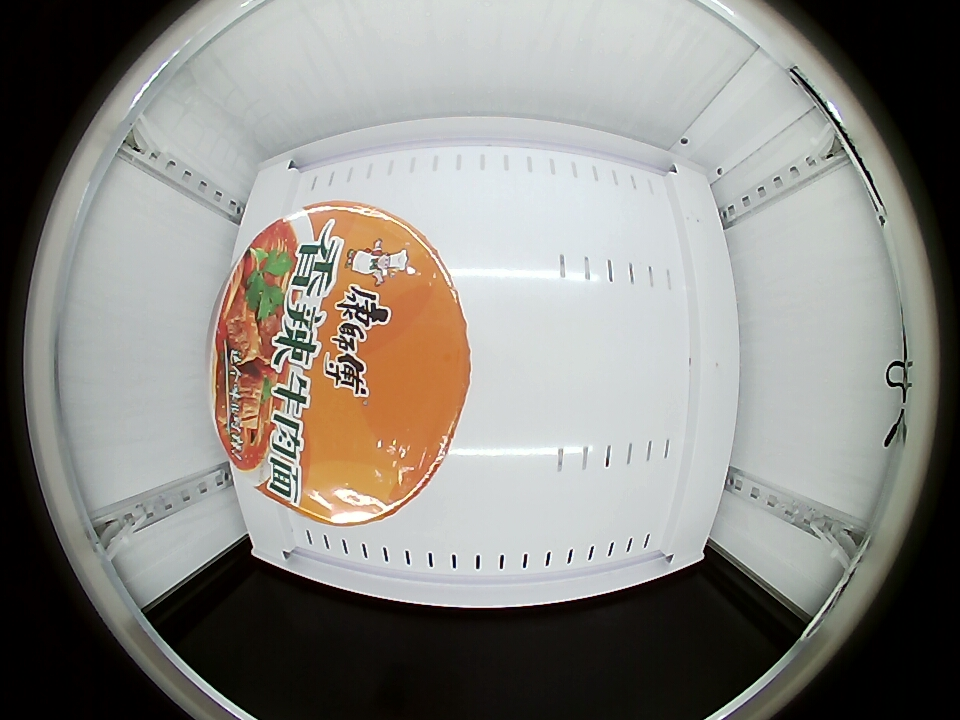xianglaniurou: (209, 201, 471, 527)
